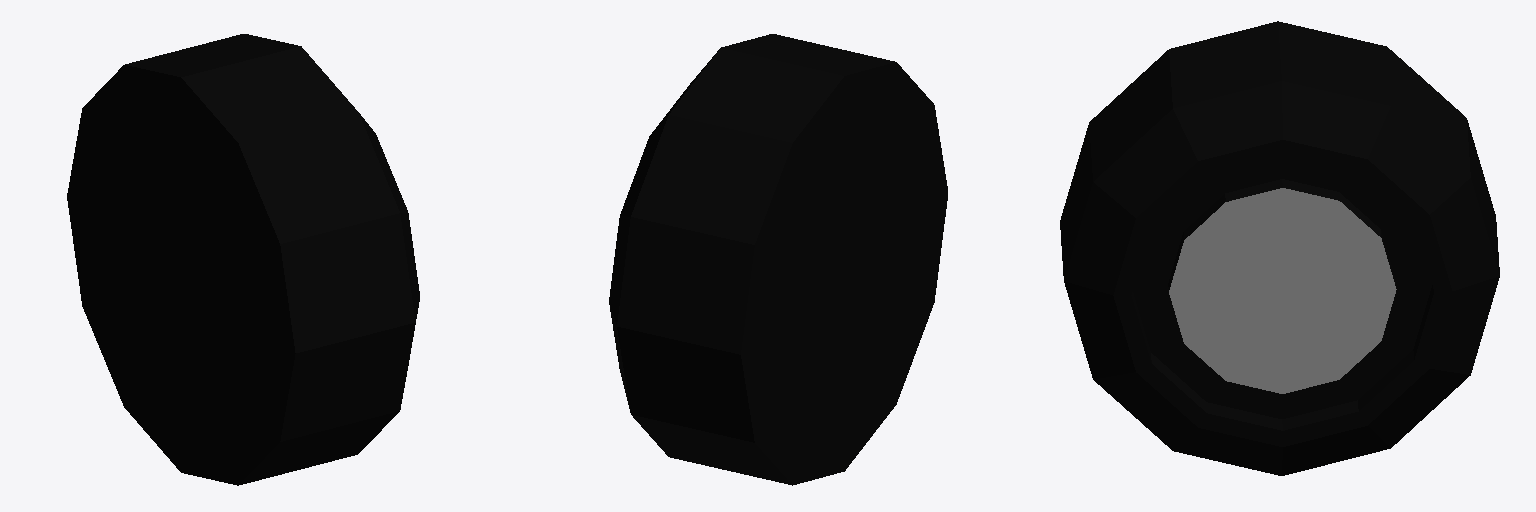
The model's file is posteriore_destra.obj.
The picture shows the model from 3 angles: view 1: azimuth 30°, elevation 25°; view 2: azimuth 150°, elevation 25°; view 3: azimuth 270°, elevation 25°; orthographic projection.
Parts seen in each view (by area): view 1: wheelbr_Cylinder.003; view 2: wheelbr_Cylinder.003; view 3: wheelbr_Cylinder.003.
Boxes of the visible parts, x1,y1,x2,y2 form: wheelbr_Cylinder.003: [67, 34, 419, 485]; wheelbr_Cylinder.003: [609, 34, 947, 485]; wheelbr_Cylinder.003: [1060, 21, 1499, 475].
Bounding box in the file's own units: 0.5094 × 1.19 × 1.2.